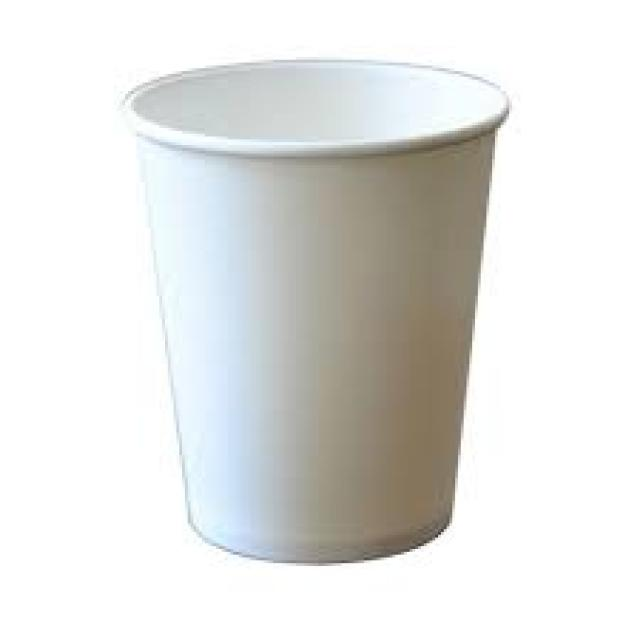PaperCardboard: (123, 56, 500, 555)
